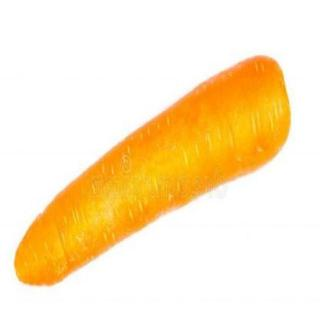carrot: (6, 45, 300, 298)
